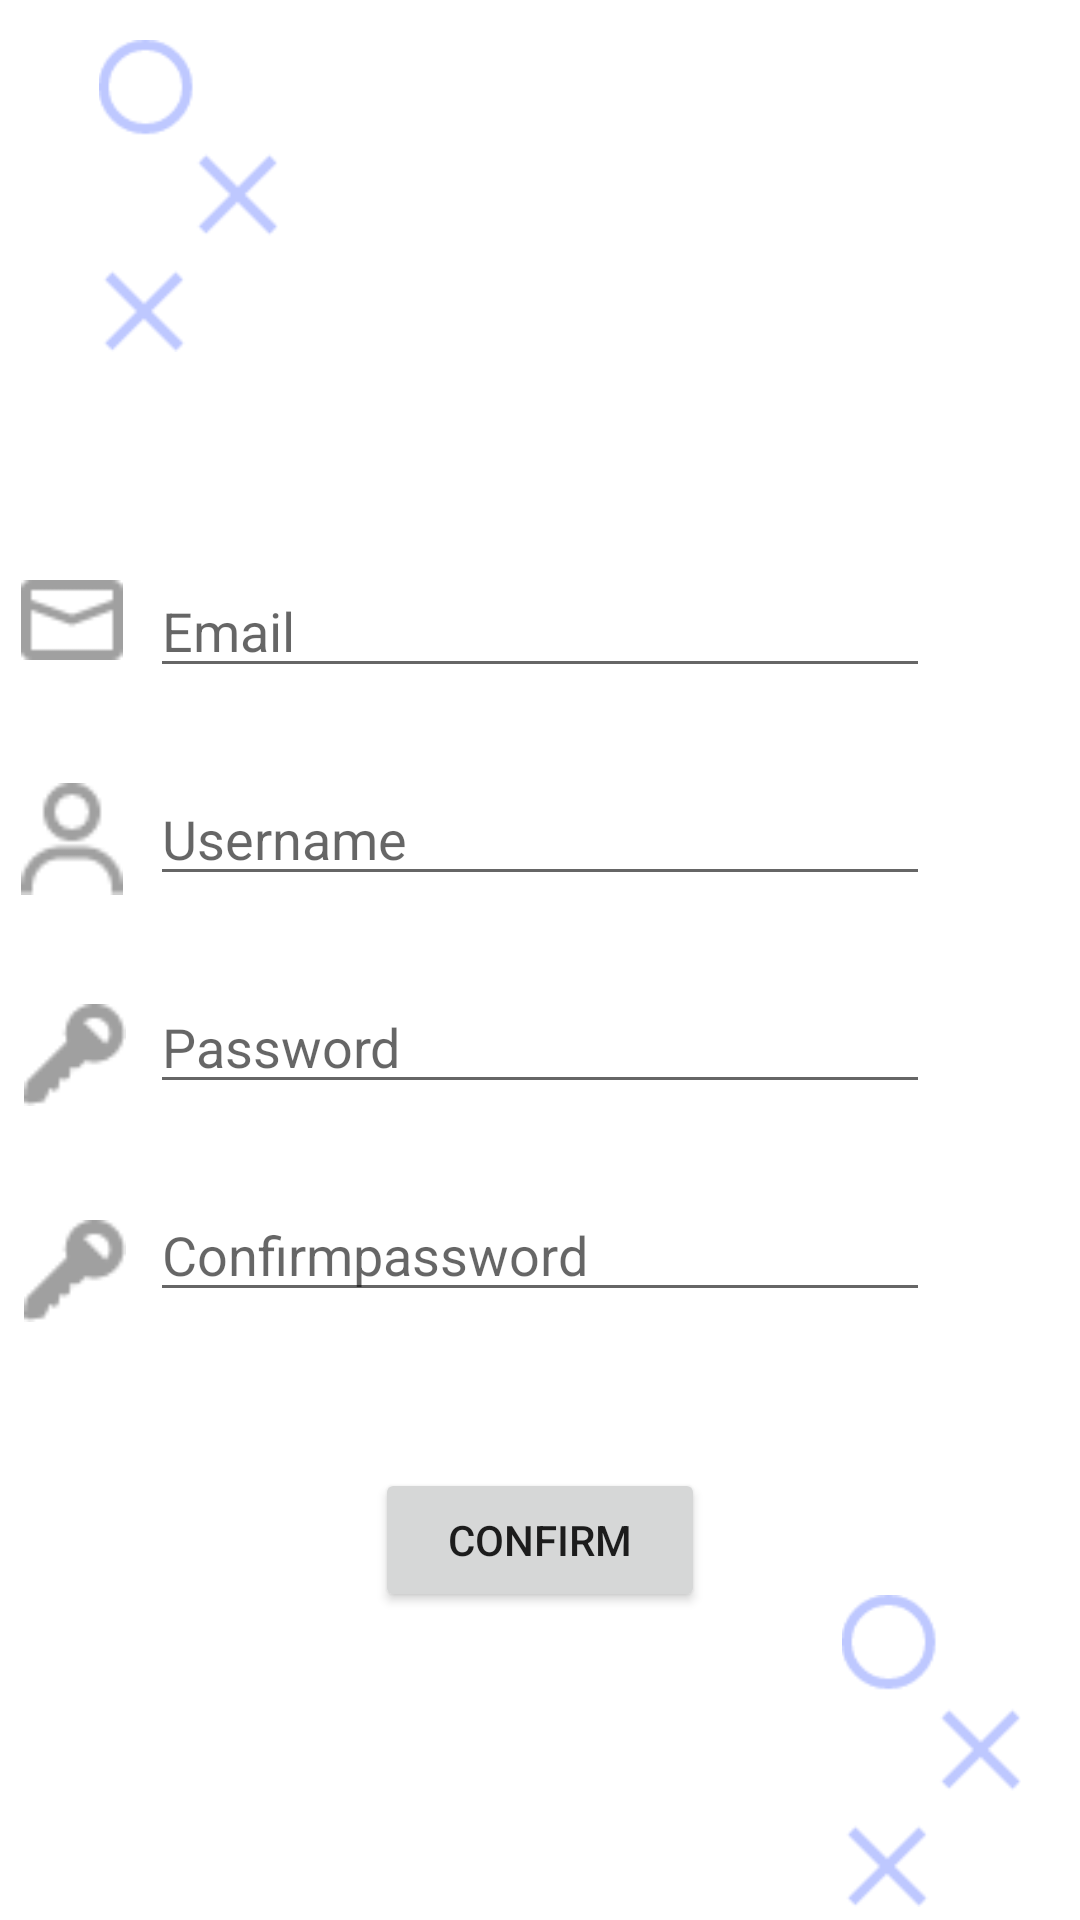

Icons on this 1080px×1920px Android screen, each with its box as (x1, y1, x2, y2):
key: (24, 1004, 124, 1104), (24, 1220, 124, 1320)
